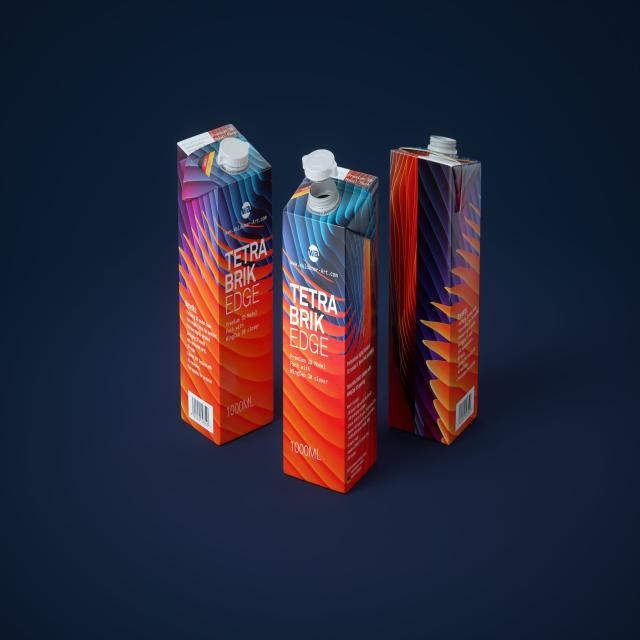cardboard: (283, 146, 384, 492), (175, 119, 276, 442), (387, 130, 487, 452)
